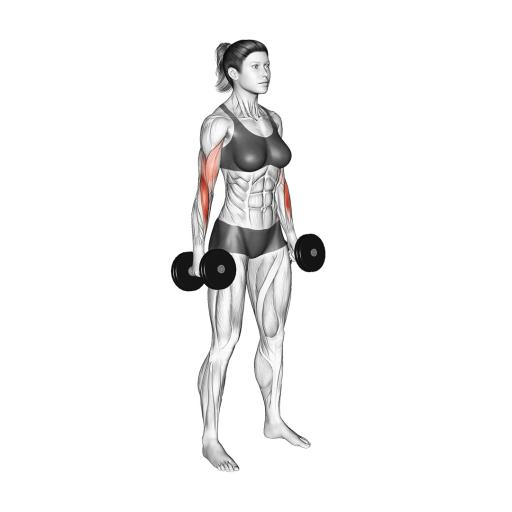exercise: (182, 38, 316, 474)
